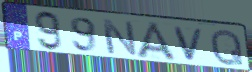9: (33, 10, 64, 53), (69, 16, 99, 53)
A: (135, 21, 180, 63)
N: (100, 18, 139, 58)
Q: (210, 28, 246, 67)
V: (172, 26, 207, 63)
